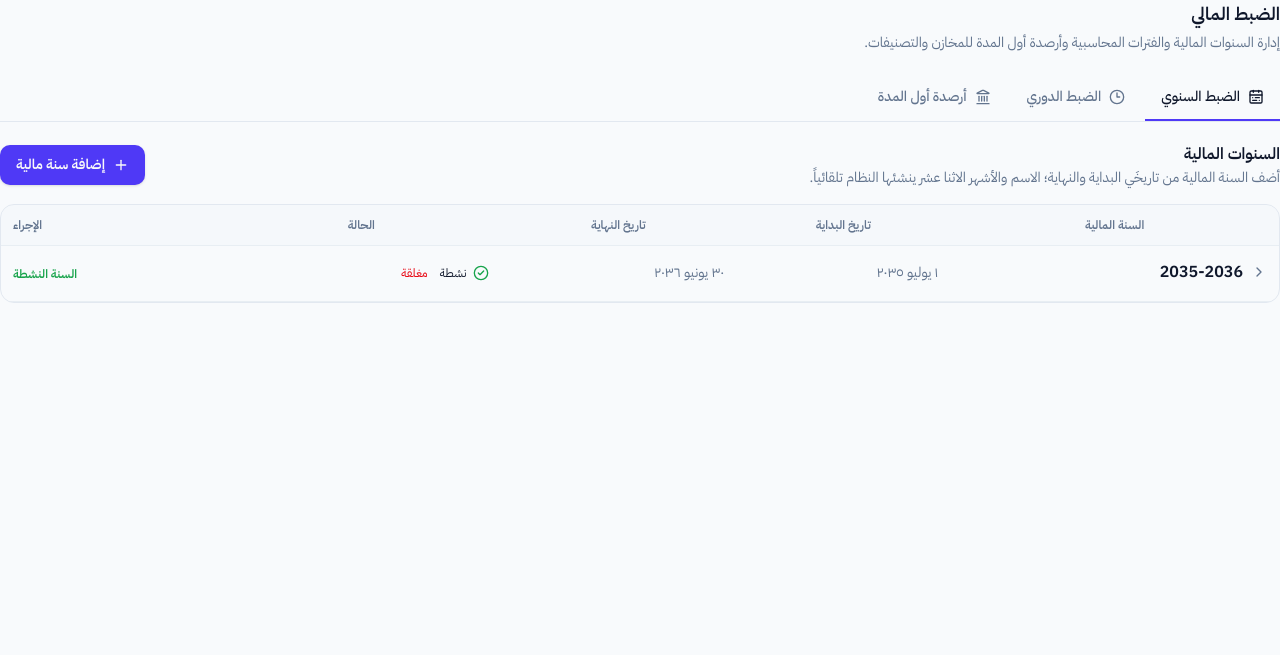
Scenario: FiscalSettings › asks for a reason when the active year is closed even if the month is open
Click the tab "الضبط الدوري" at (1076, 98), box [1011,75,1141,121]
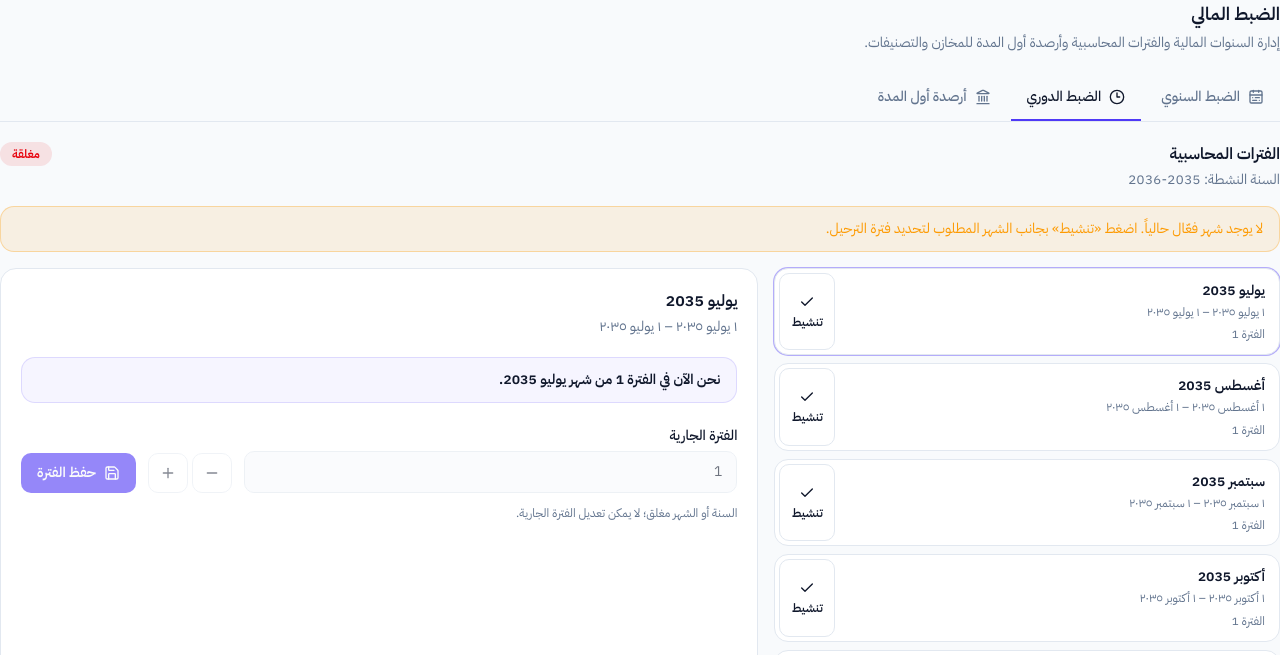
Click the button with aria-label "تنشيط شهر يوليو 2035" at (807, 312), box [779,273,835,350]
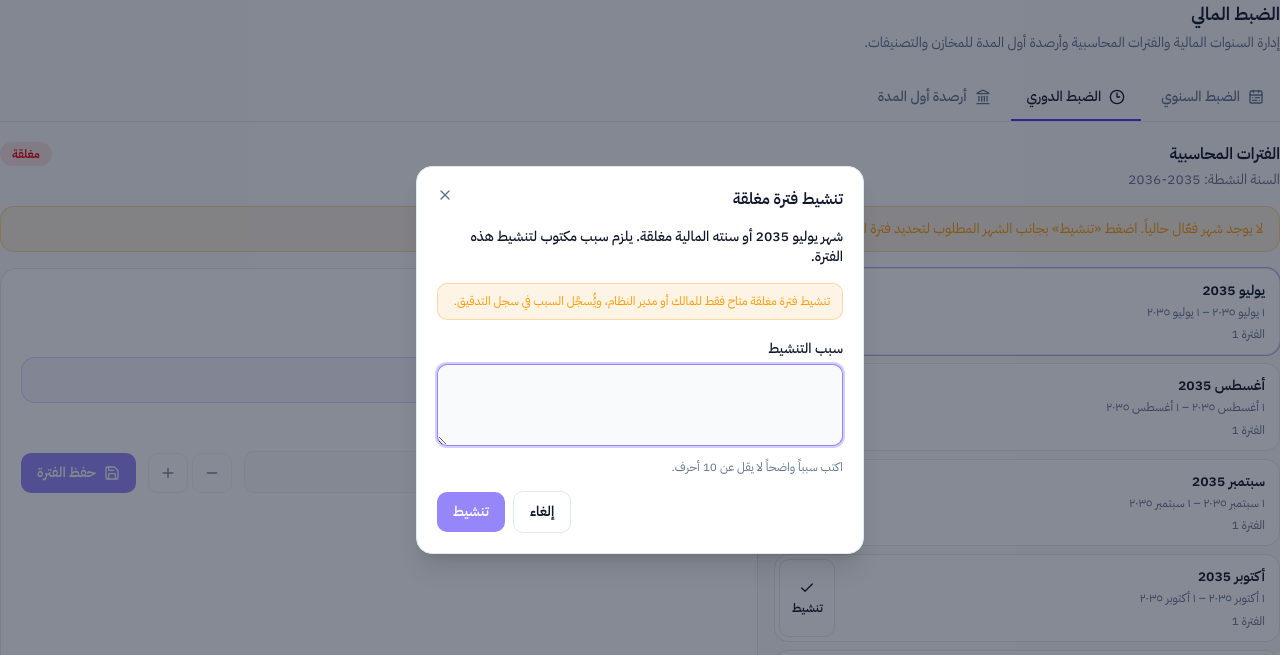
Check: the dialog is shown, box [416,166,864,554]
Click the button "إلغاء" at (542, 512), box [513,491,571,533]
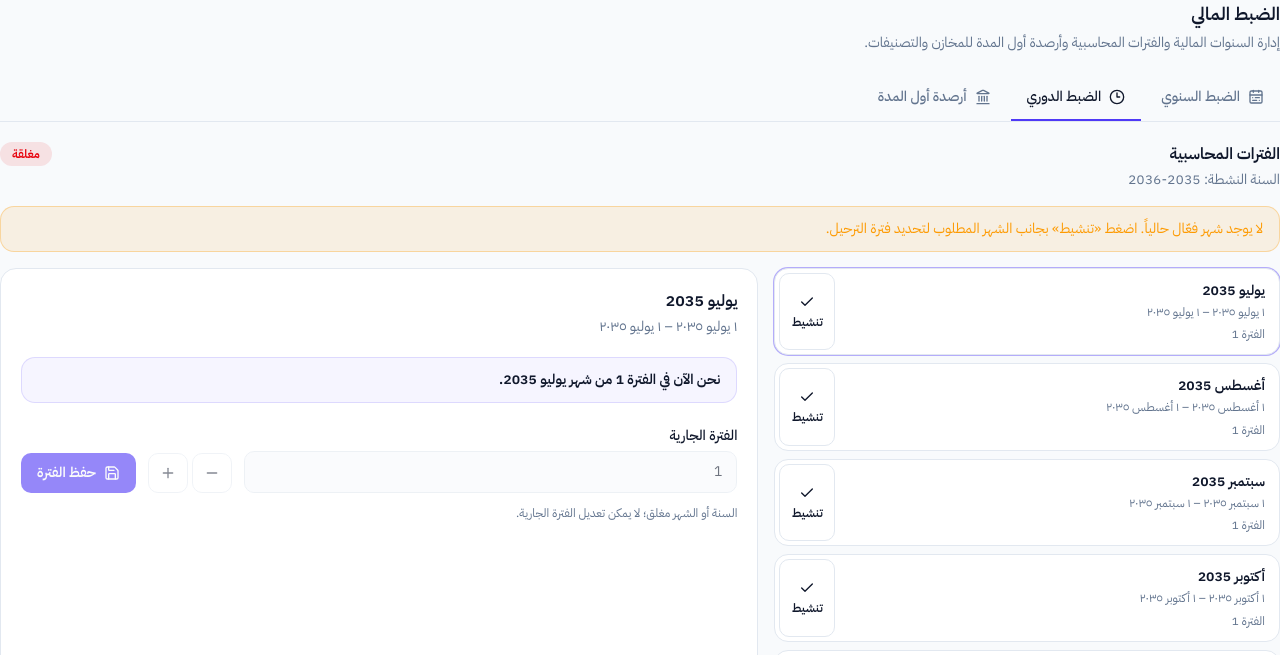
Check: the dialog is gone
